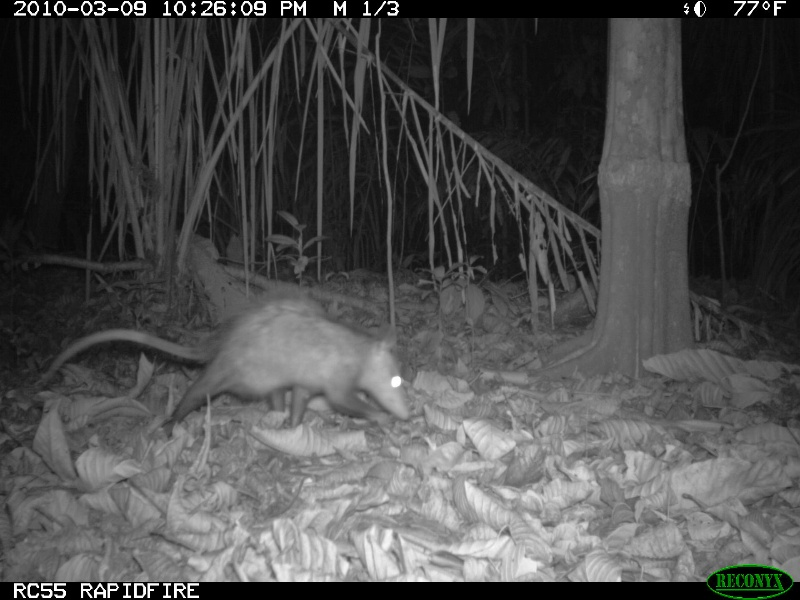opossum: (37, 294, 418, 437)
